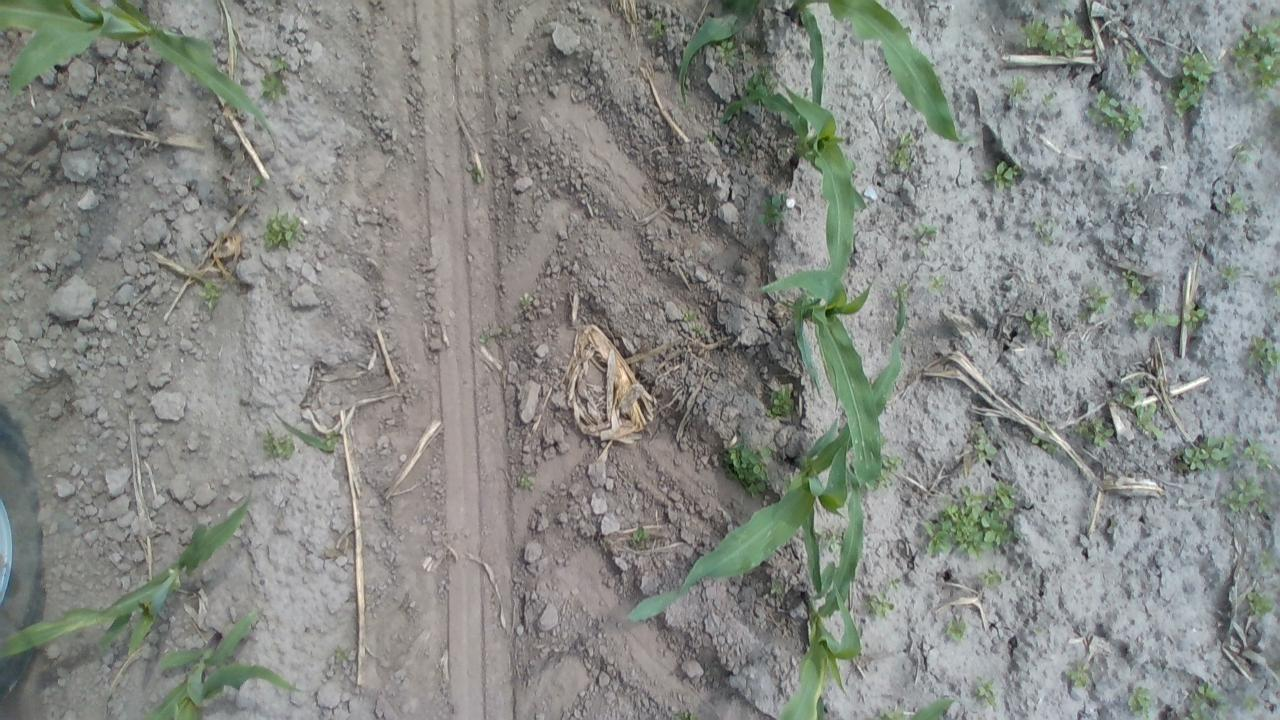Maize: (626, 298, 910, 637), (1, 490, 262, 666), (680, 0, 980, 142), (0, 0, 284, 146), (754, 268, 880, 505), (728, 71, 868, 275), (782, 456, 872, 718), (140, 605, 304, 718), (880, 696, 960, 719)
Weeds: (919, 475, 1024, 562), (1231, 17, 1278, 95), (1167, 48, 1216, 122), (1085, 86, 1147, 142), (1018, 14, 1092, 60), (722, 442, 772, 498), (1176, 432, 1238, 471), (1222, 476, 1272, 518), (260, 210, 306, 252), (1116, 380, 1156, 428), (1120, 392, 1162, 436), (1186, 679, 1228, 719), (258, 55, 292, 103), (1074, 415, 1116, 449), (1246, 332, 1276, 376), (981, 160, 1022, 192), (744, 67, 780, 102), (1128, 306, 1180, 330), (1080, 282, 1112, 320), (756, 191, 788, 228), (262, 428, 296, 462), (1241, 438, 1275, 472), (890, 132, 920, 170), (767, 384, 797, 422), (864, 588, 897, 622), (1064, 658, 1096, 690), (1022, 307, 1053, 340), (1126, 684, 1156, 718), (1244, 588, 1276, 618), (971, 426, 1000, 459), (1226, 186, 1254, 218), (972, 676, 998, 710), (1121, 48, 1148, 80), (1120, 268, 1147, 300), (1032, 214, 1058, 247), (910, 222, 939, 250), (717, 35, 741, 68), (879, 450, 904, 480), (680, 307, 704, 338), (944, 616, 970, 644), (1184, 301, 1208, 331), (1004, 75, 1030, 102), (478, 322, 508, 344), (646, 16, 671, 42), (198, 282, 224, 307), (978, 568, 1006, 591), (632, 524, 654, 552), (1255, 548, 1276, 576), (1237, 691, 1262, 714), (466, 158, 488, 184), (823, 530, 846, 553), (1218, 264, 1242, 286), (732, 134, 755, 156), (1050, 345, 1072, 368), (1232, 142, 1252, 166), (766, 580, 788, 600), (332, 645, 352, 666), (926, 274, 948, 293), (320, 430, 340, 450), (1032, 436, 1056, 452), (1124, 179, 1142, 200), (672, 707, 702, 719), (517, 292, 533, 312), (1040, 90, 1060, 106), (516, 472, 534, 489), (1104, 516, 1120, 535), (1266, 278, 1280, 298), (1040, 421, 1052, 432)
